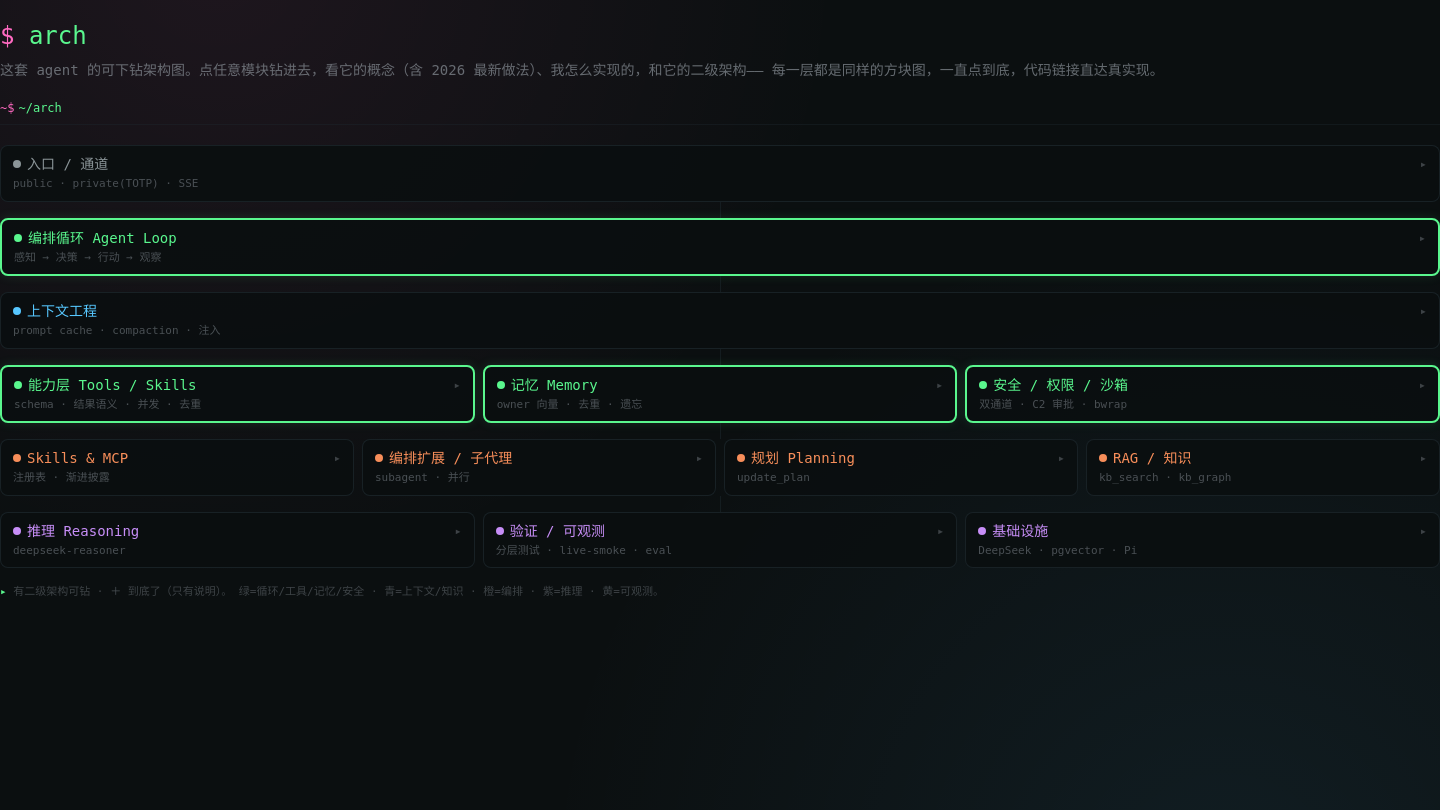
Arch 架构解剖器（原地下钻） › 节点展示数据流走查 + 坑/教训
Click the text "编排循环 Agent Loop": (102, 238) [28,230,177,246]
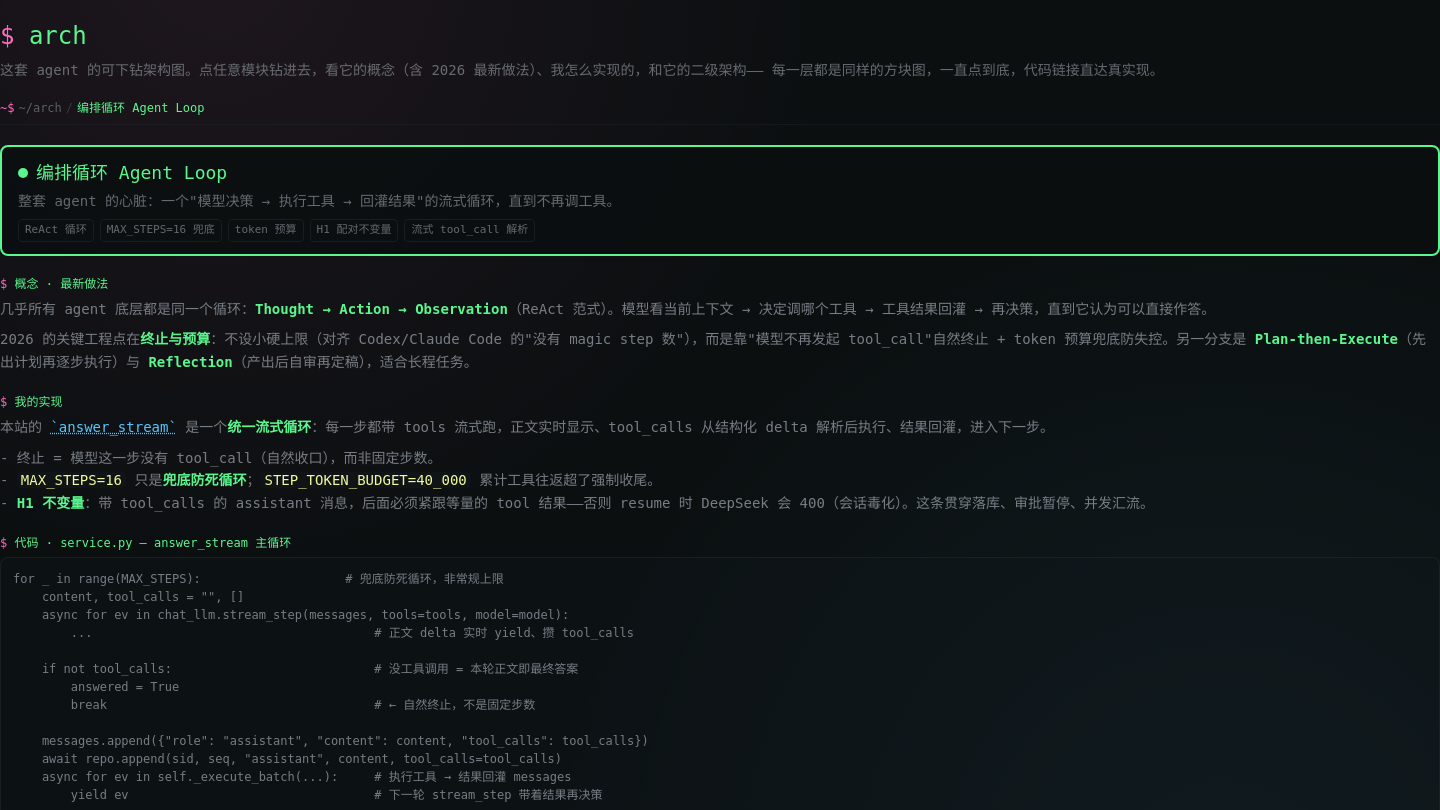
Expected: the text "会话毒化" is shown, [84,495,1154,511]
